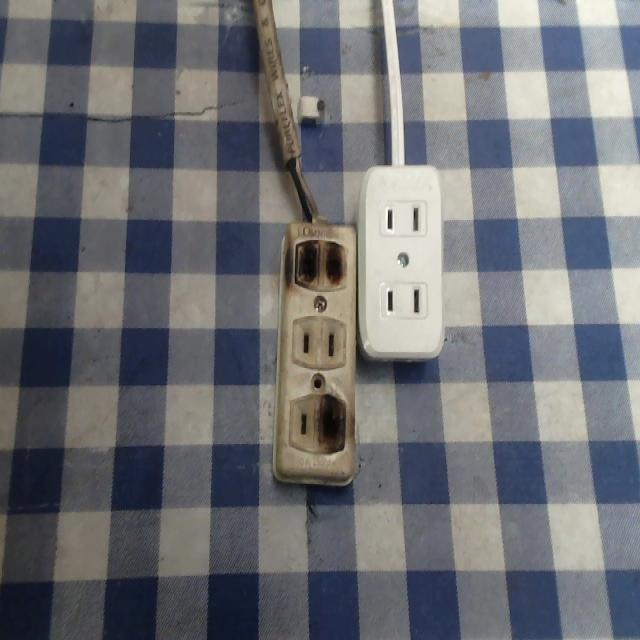-: (292, 235, 348, 289), (316, 393, 348, 456)
